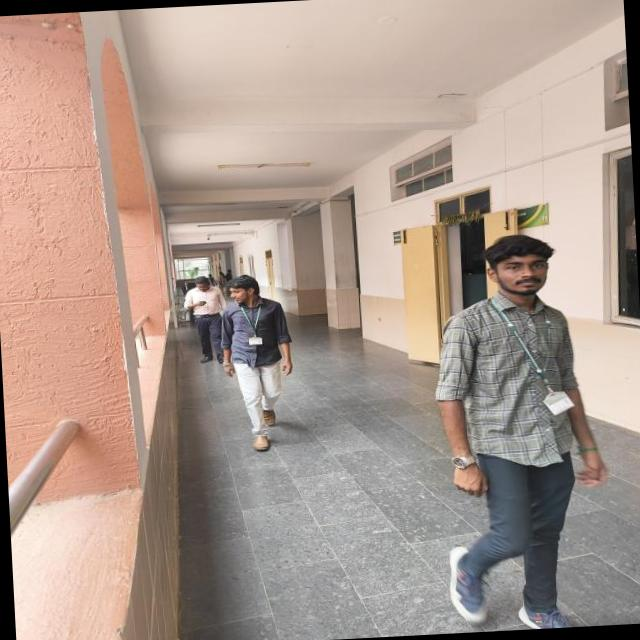id_card: (494, 292, 572, 422), (240, 292, 265, 351)
